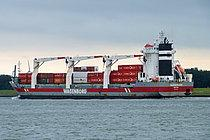Ship: (7, 32, 199, 103)
